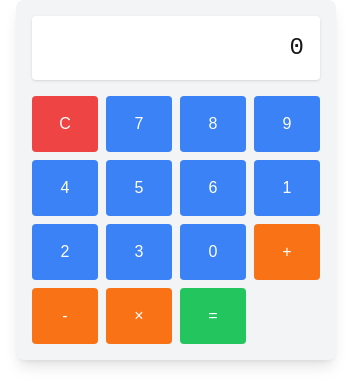
Test: Calculator › clears the display when C button is clicked
The width and height of the screenshot is (353, 386).
# First enter some numbers
Click the button "5" at (139, 188), box [106,160,172,216]
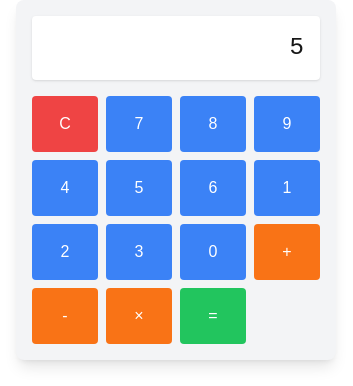
Click the button "7" at (139, 124), box [106,96,172,152]
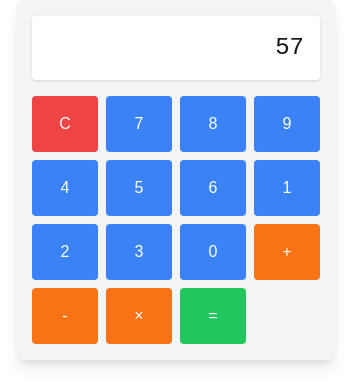
Expected: the text with test id "calculator-display" reads "57", [275,34,304,61]
# Click clear button
Click the button "C" at (65, 124), box [32,96,98,152]
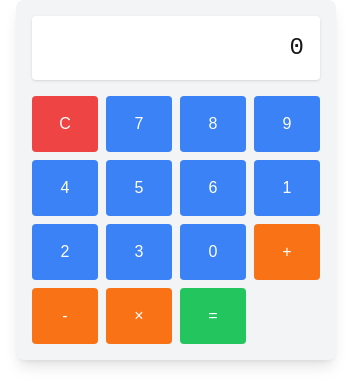
Expected: the text with test id "calculator-display" reads "0", [290,34,304,61]
